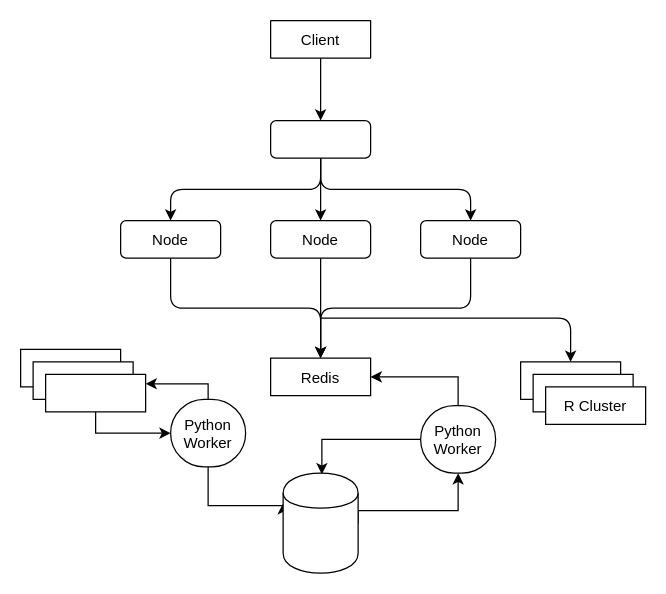
This 666x594 diagram has some shape labels left out. The shapes that lost their labels are listed below. From the top down, each one's centre as x and y in pixels, then its label:
point 320,138: NGINX
point 95,392: Log Data
